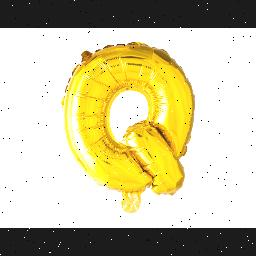q: (48, 36, 196, 196)
